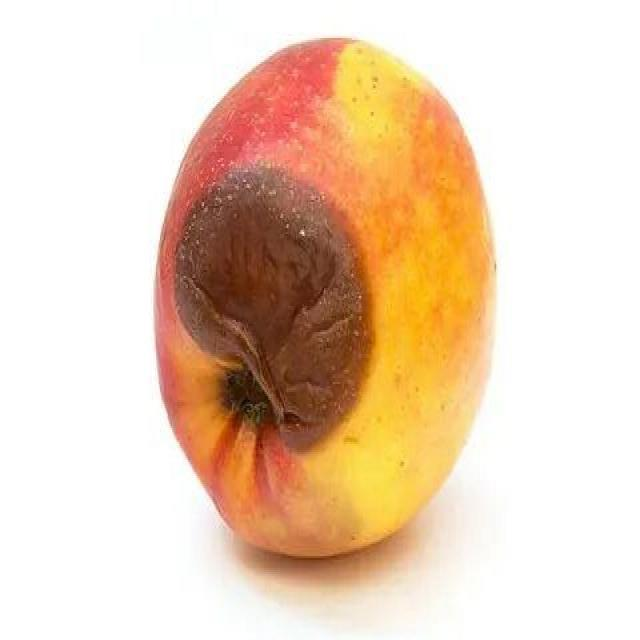Rotten: (160, 40, 494, 566)
